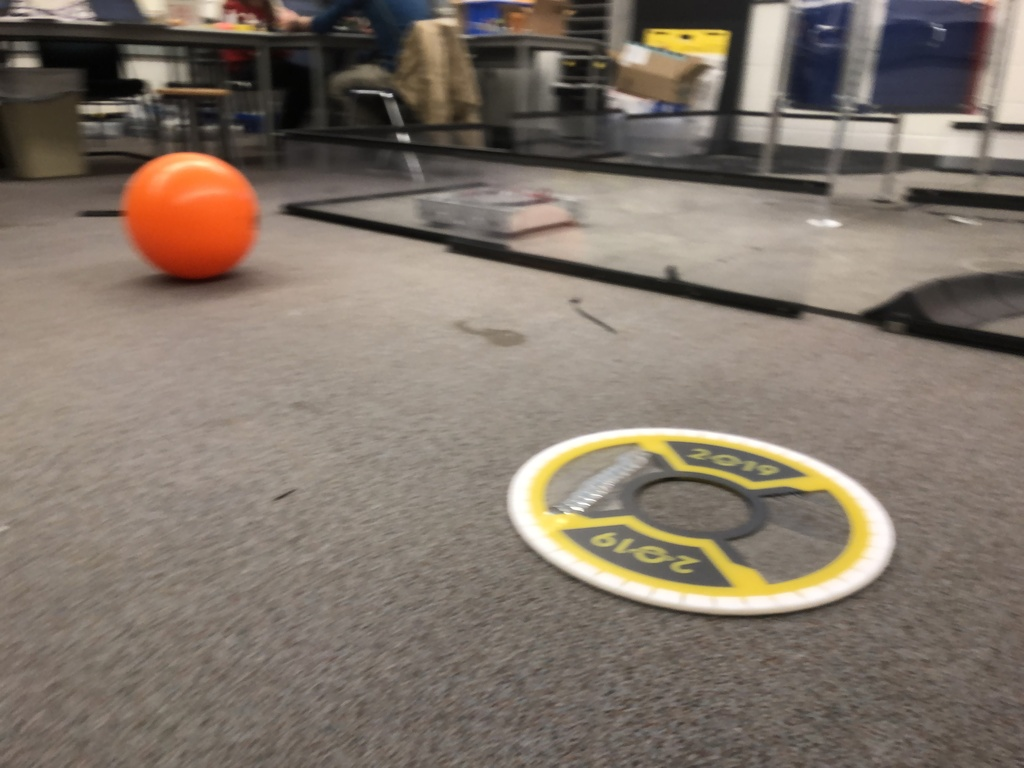hatch_panel: (497, 411, 916, 626)
